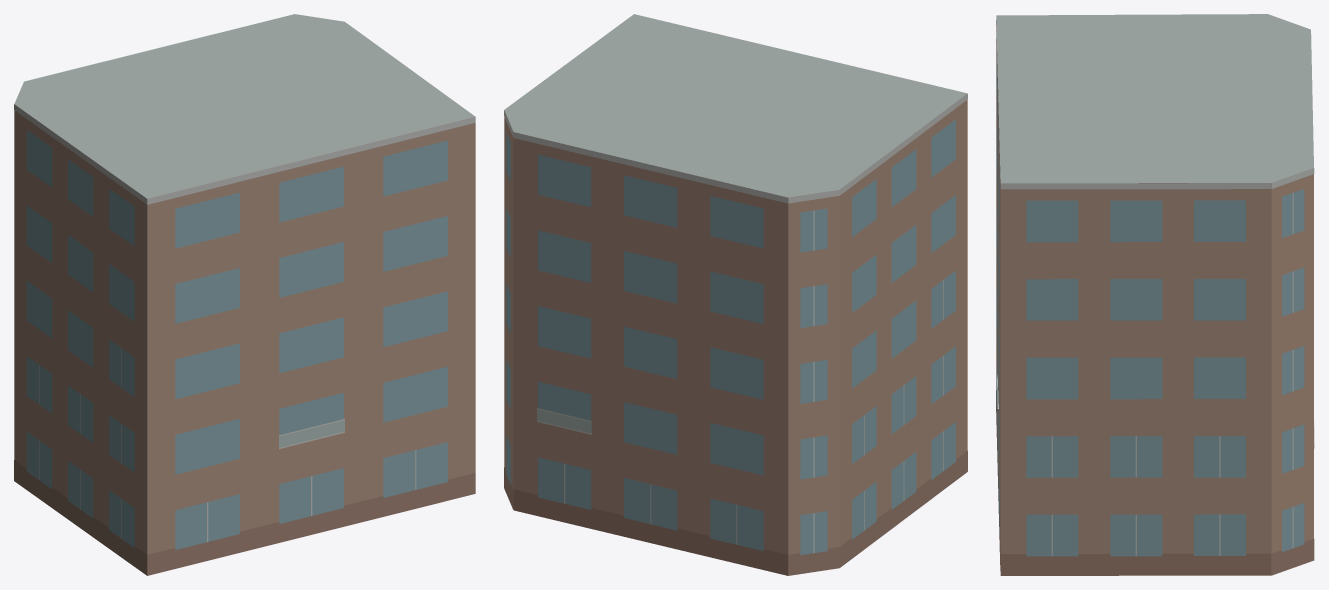
Rendered from survey-upis-32955706.glb.
The picture shows the model from 3 angles, left to right: view 1: azimuth 30°, elevation 25°; view 2: azimuth 150°, elevation 25°; view 3: azimuth 270°, elevation 25°; orthographic projection. The views are drawn at different scales.
Visible parts, largest first — view 1: survey-upis-32955706.tmp; view 2: survey-upis-32955706.tmp; view 3: survey-upis-32955706.tmp.
Boxes of the visible parts, box(x1,y1,x2,y2) form: survey-upis-32955706.tmp: box(14, 14, 475, 575); survey-upis-32955706.tmp: box(504, 14, 967, 575); survey-upis-32955706.tmp: box(996, 14, 1314, 575).
Bounding box in the file's own units: 14.39 × 15.55 × 11.45.
